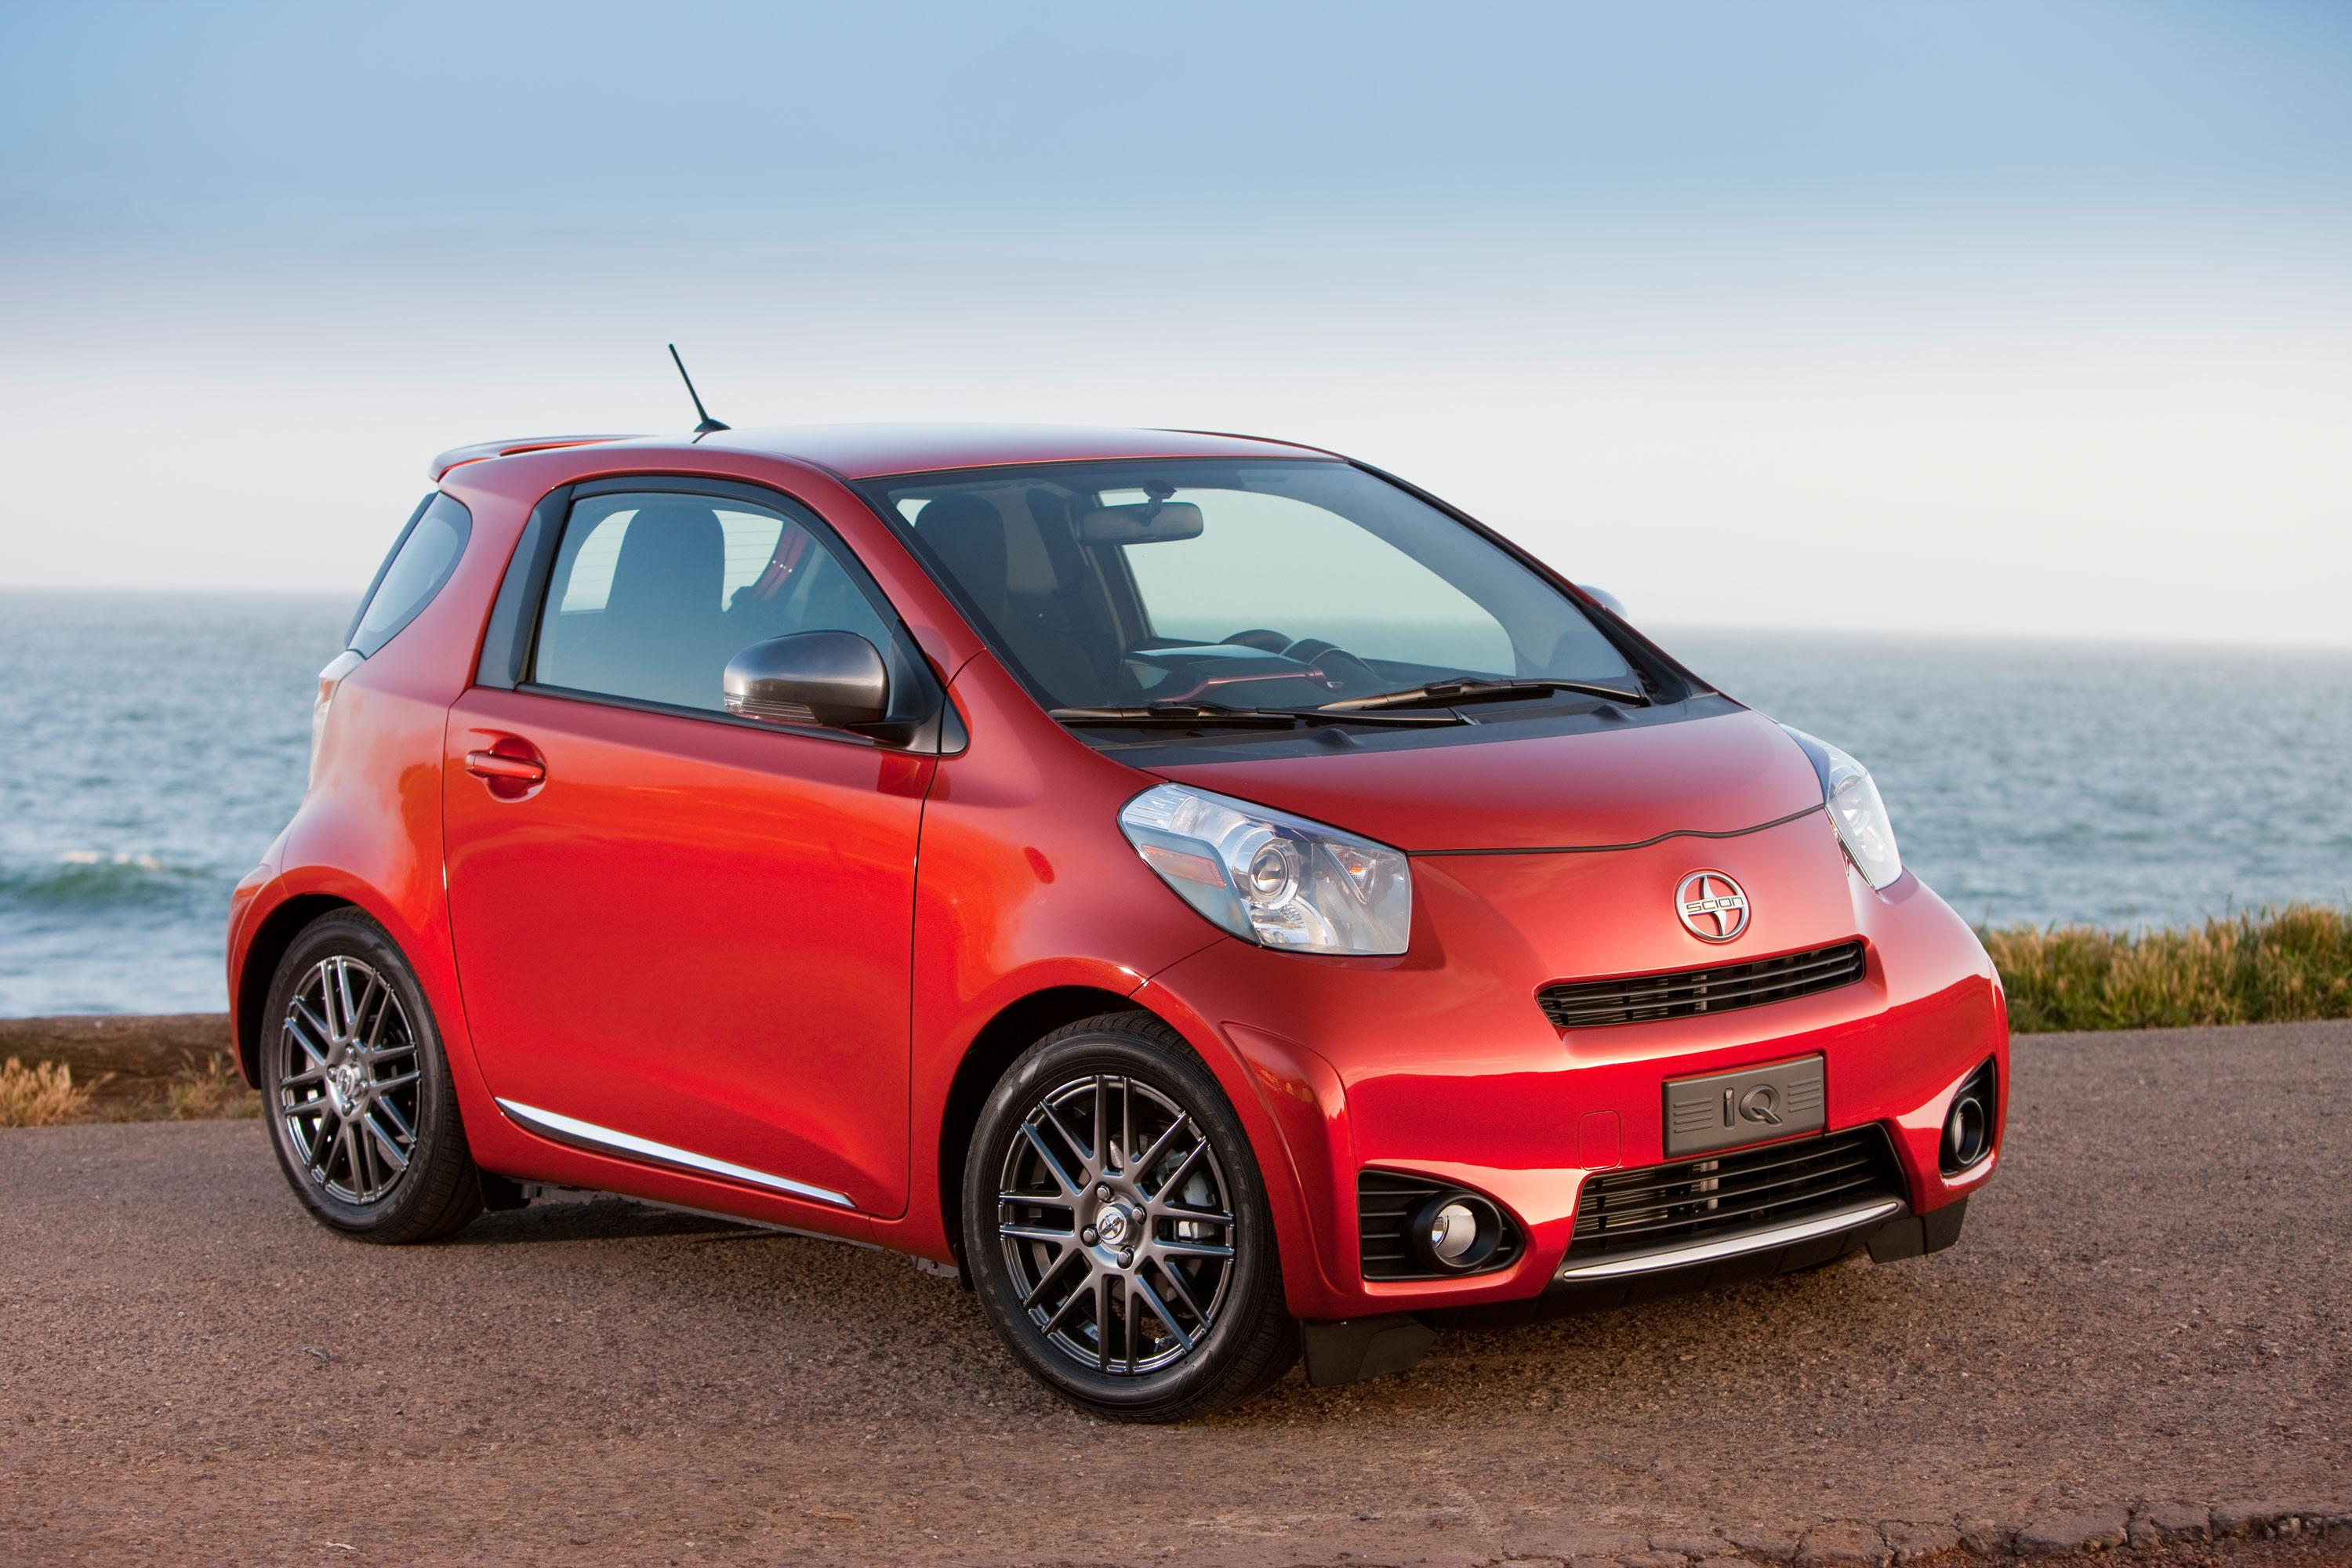small: (222, 348, 2016, 1424)
